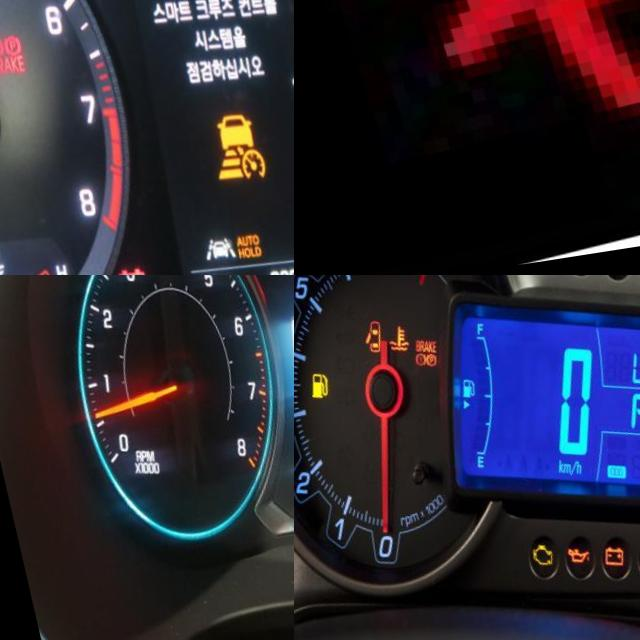Doors: (346, 324, 374, 360)
Engine cooling system: (370, 329, 400, 361)
LaneCenteringOff: (179, 245, 213, 272)
Low fuel level: (294, 374, 318, 405)
